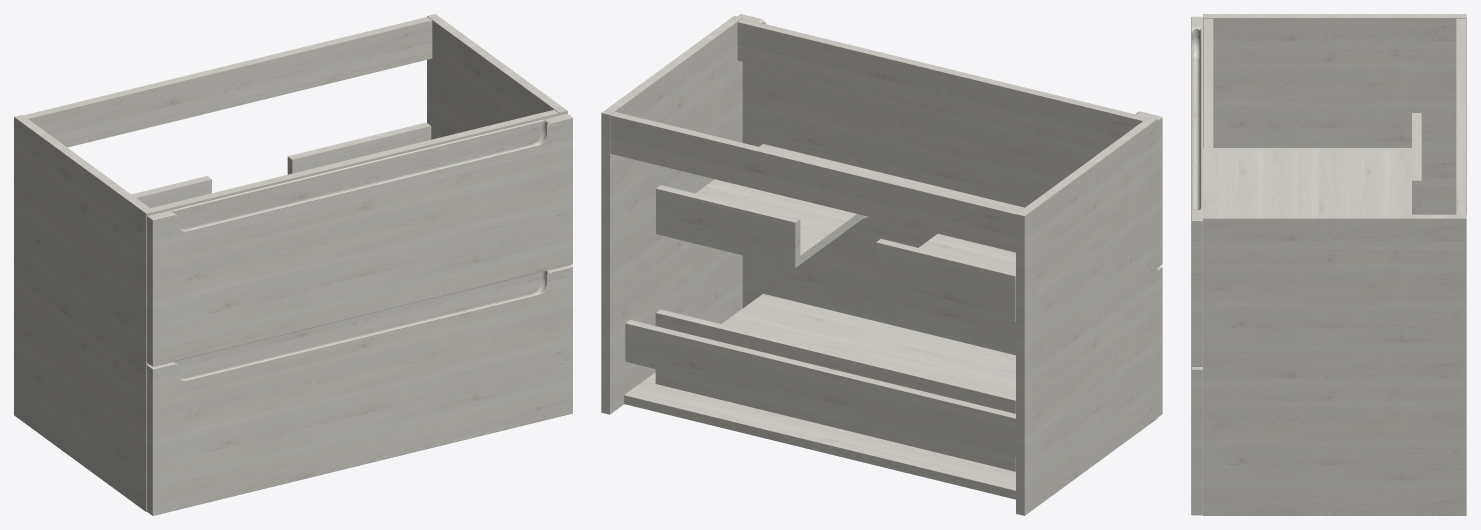
The model's file is monterrey8002c.glb.
The picture shows the model from 3 angles, left to right: view 1: azimuth 30°, elevation 25°; view 2: azimuth 150°, elevation 25°; view 3: azimuth 270°, elevation 25°; orthographic projection.
Visible parts, largest first — view 1: Monterrey 800 2c; view 2: Monterrey 800 2c; view 3: Monterrey 800 2c.
Boxes of the visible parts, bbox=[...] form: Monterrey 800 2c: bbox=[14, 14, 572, 515]; Monterrey 800 2c: bbox=[601, 14, 1162, 515]; Monterrey 800 2c: bbox=[1191, 14, 1466, 515].
Bounding box in the file's own units: 0.798 × 0.54 × 0.453.
Materials: 1 (1 with a texture image).
